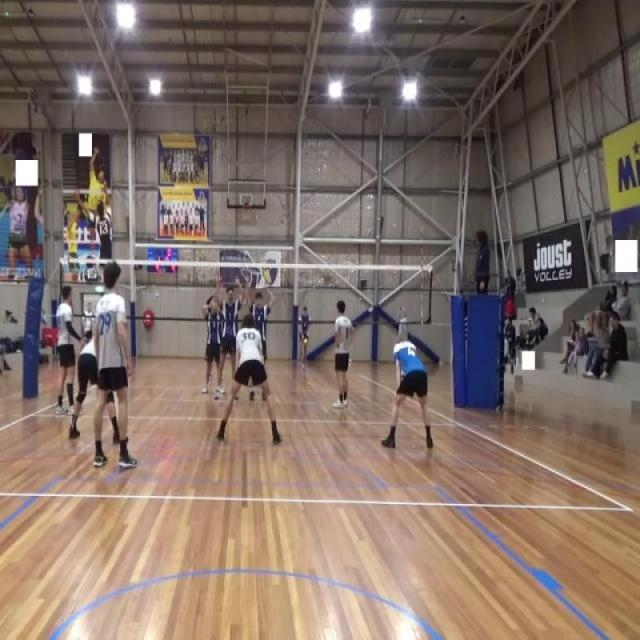volleyball: (304, 338, 308, 346)
